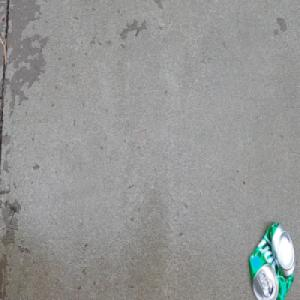SodaCan: (247, 220, 296, 300)
